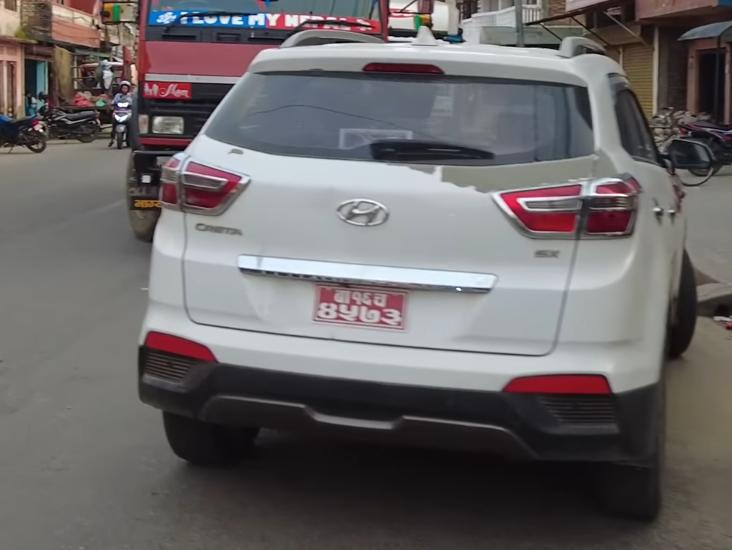bike: (0, 111, 49, 155)
car: (127, 24, 717, 519)
scooter: (108, 98, 135, 151)
